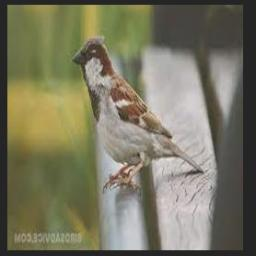Sparrow: (73, 36, 204, 194)
